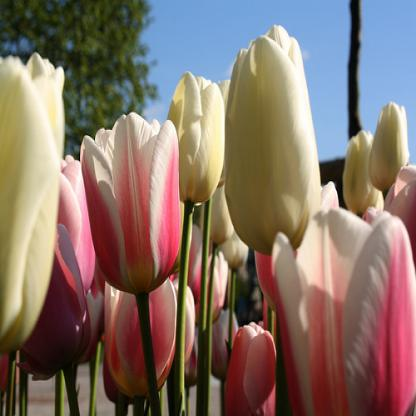TULIP: (14, 26, 407, 394)
